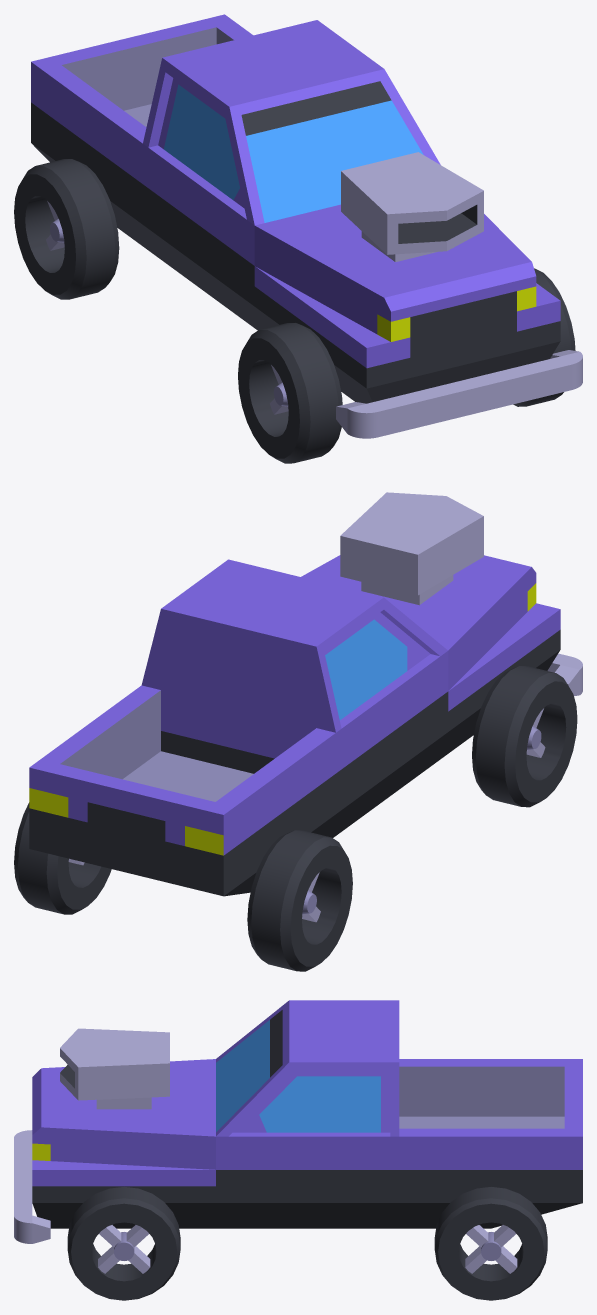
Rendered from car1111.fbx.
3 views of the same model, one above another, from view 1: azimuth 30°, elevation 25°; view 2: azimuth 150°, elevation 25°; view 3: azimuth 270°, elevation 25° (orthographic). The views are drawn at different scales.
Visible parts, largest first — view 1: body_frontTruck, body_topStandard, wheel_spokes (×3), body_backBedClosed, body_standard, detail_engine, bumper; view 2: body_backBedClosed, body_topStandard, wheel_spokes (×3), body_standard, body_frontTruck, detail_engine, bumper; view 3: body_backBedClosed, body_frontTruck, body_topStandard, wheel_spokes (×2), body_standard, detail_engine, bumper.
Boxes of the visible parts, x1,y1,x2,y2 form: body_frontTruck: [254, 204, 560, 403]; body_topStandard: [143, 20, 440, 225]; wheel_spokes (×3): [14, 159, 575, 463]; body_backBedClosed: [31, 14, 253, 259]; body_standard: [143, 144, 265, 330]; detail_engine: [341, 152, 483, 261]; bumper: [336, 350, 582, 438]; body_backBedClosed: [29, 685, 335, 896]; body_topStandard: [141, 559, 447, 732]; wheel_spokes (×3): [14, 666, 577, 971]; body_standard: [161, 651, 448, 837]; body_frontTruck: [301, 555, 560, 767]; detail_engine: [340, 492, 483, 605]; bumper: [547, 653, 582, 696]; body_backBedClosed: [399, 1059, 582, 1228]; body_frontTruck: [32, 1059, 215, 1228]; body_topStandard: [216, 1000, 399, 1136]; wheel_spokes (×2): [67, 1187, 547, 1300]; body_standard: [216, 1132, 399, 1228]; detail_engine: [60, 1028, 169, 1109]; bumper: [14, 1130, 50, 1243].
Size of the model in its own units: 14.16 by 13.08 by 31.
